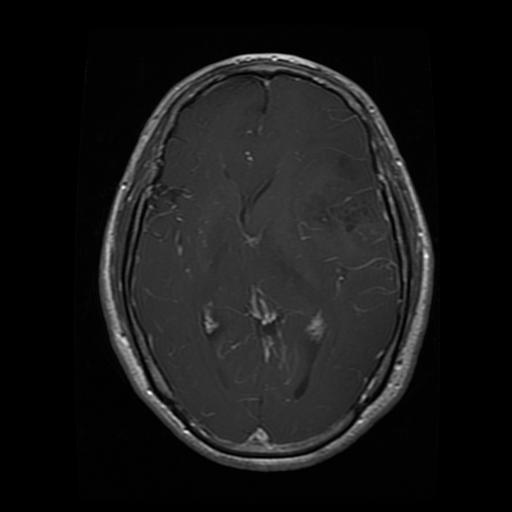Gliomia_tumour: (300, 176, 385, 244)
